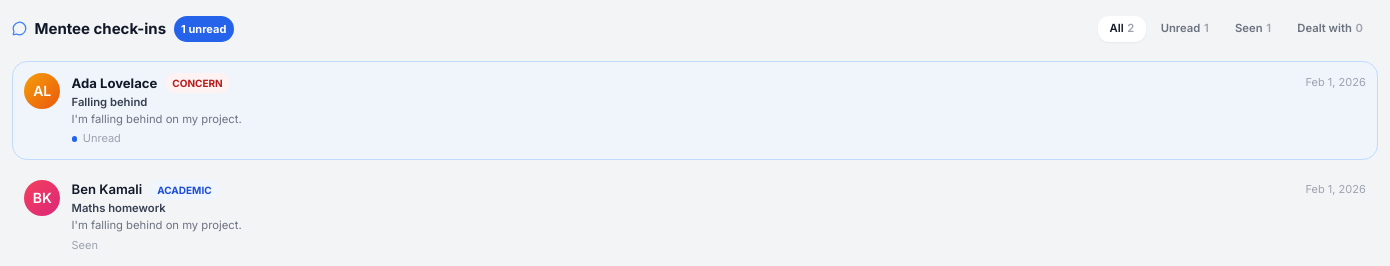
Test case: MentorCheckInInbox › filters to unread check-ins
Expected: the text "Ben Kamali" is shown, top-left (72, 180), bottom-right (142, 199)
Click the tab "Unread1": (1185, 29) top-left (1149, 16), bottom-right (1220, 42)
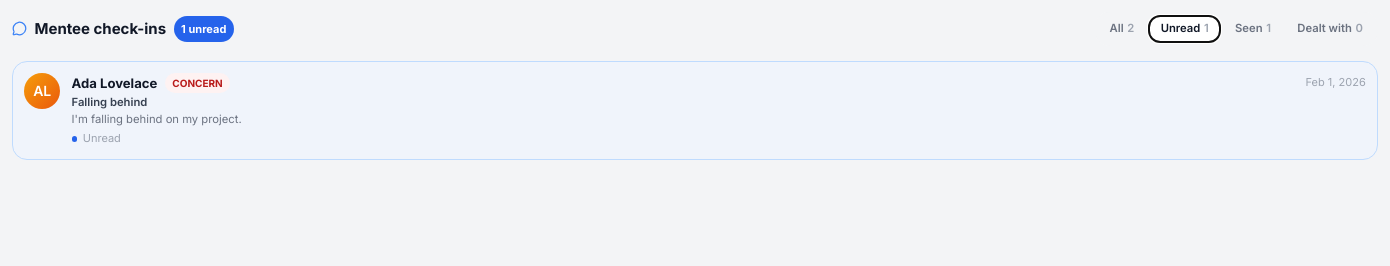
Expected: the text "Ada Lovelace" is shown, top-left (72, 74), bottom-right (157, 92)
Expected: the button "Ben Kamali" is gone
